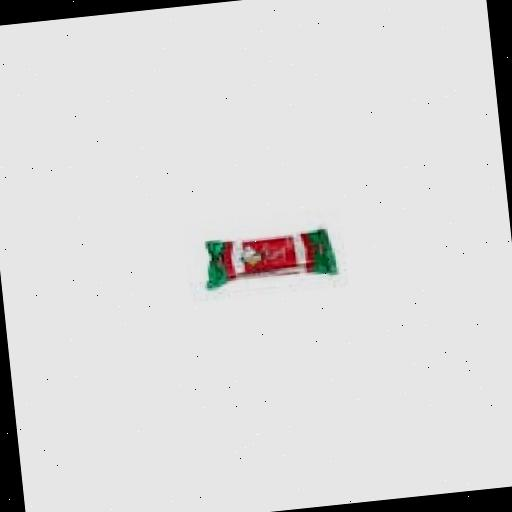henry-s: (132, 158, 436, 348)
